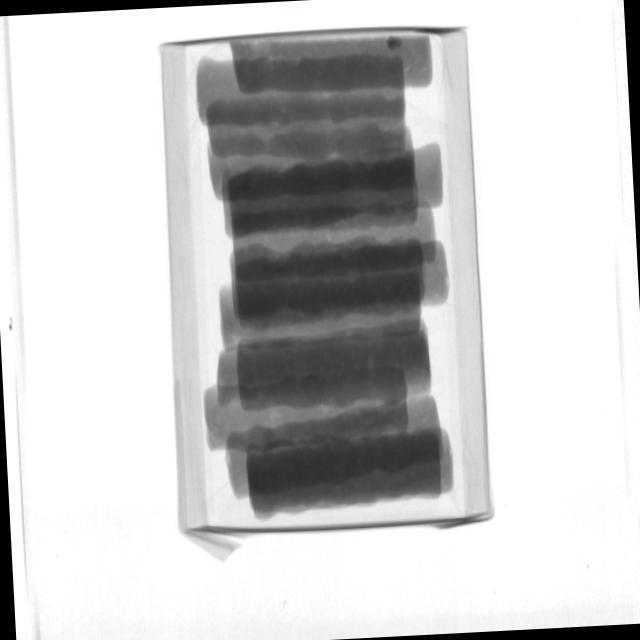ym: (387, 35, 403, 50)
